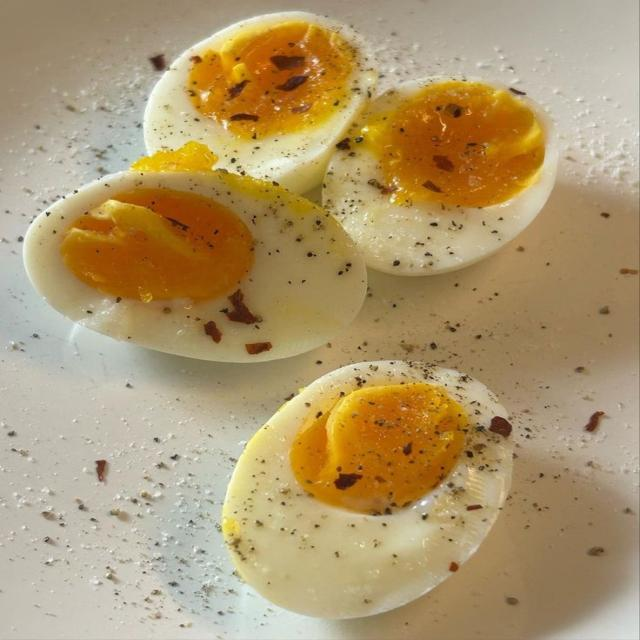egg boiled: (223, 361, 512, 618), (24, 171, 366, 362), (323, 77, 558, 275), (144, 12, 376, 192)
